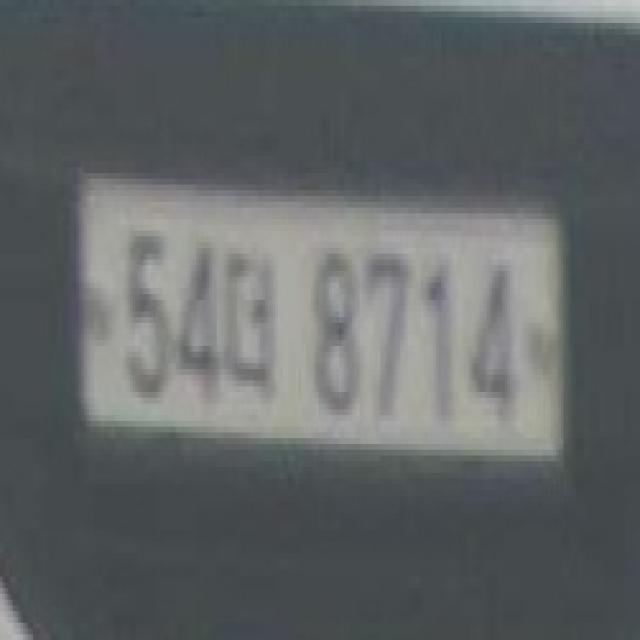1: (421, 202, 466, 438)
4: (464, 242, 523, 427), (176, 225, 227, 427)
5: (125, 202, 173, 409)
7: (364, 219, 420, 433)
8: (298, 219, 370, 427)
deo: (219, 242, 286, 415)
license_plate: (69, 161, 571, 496)
